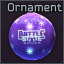Christmas tree ornament Violet: (0, 0, 64, 64)
